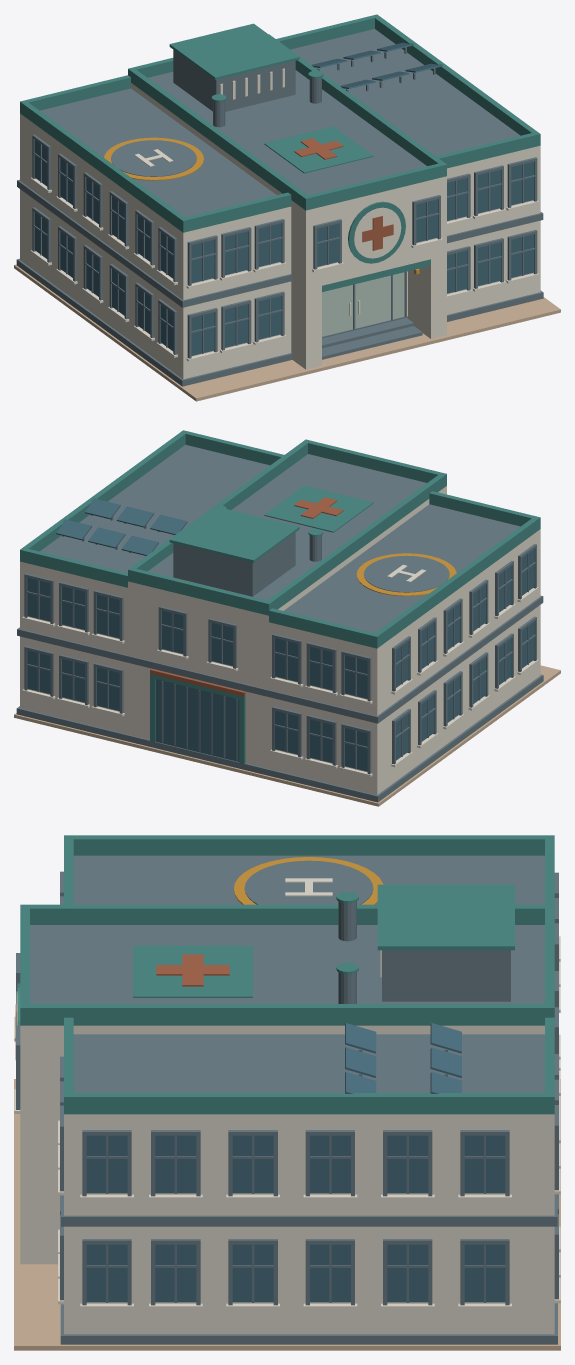
Rendered from hospital-a-v001.glb.
The picture shows the model from 3 angles, top to bottom: view 1: azimuth 30°, elevation 25°; view 2: azimuth 150°, elevation 25°; view 3: azimuth 270°, elevation 25°; orthographic projection. The views are drawn at different scales.
Visible parts, largest first — view 1: hospital_slate, hospital_ceramic, hospital_teal, hospital_glass, hospital_paving, hospital_lobbyglass, hospital_terracotta, hospital_amber; view 2: hospital_slate, hospital_ceramic, hospital_teal, hospital_glass, hospital_paving, hospital_terracotta, hospital_amber; view 3: hospital_slate, hospital_ceramic, hospital_teal, hospital_glass, hospital_paving, hospital_terracotta, hospital_amber.
Part boxes in pixels (left/top/right/bottom): hospital_slate: left=16, top=29, right=543, bottom=386; hospital_ceramic: left=20, top=68, right=540, bottom=379; hospital_teal: left=20, top=14, right=540, bottom=292; hospital_glass: left=34, top=42, right=534, bottom=355; hospital_paving: left=14, top=264, right=560, bottom=401; hospital_lobbyglass: left=322, top=272, right=404, bottom=336; hospital_terracotta: left=294, top=138, right=393, bottom=250; hospital_amber: left=104, top=137, right=419, bottom=274; hospital_slate: left=16, top=444, right=543, bottom=802; hospital_ceramic: left=20, top=486, right=540, bottom=794; hospital_teal: left=20, top=430, right=540, bottom=763; hospital_glass: left=27, top=498, right=534, bottom=771; hospital_paving: left=14, top=665, right=560, bottom=806; hospital_terracotta: left=150, top=497, right=343, bottom=696; hospital_amber: left=356, top=553, right=456, bottom=596; hospital_slate: left=16, top=855, right=558, bottom=1344; hospital_ceramic: left=14, top=878, right=560, bottom=1334; hospital_teal: left=17, top=835, right=554, bottom=1114; hospital_glass: left=86, top=1023, right=505, bottom=1302; hospital_paving: left=14, top=1079, right=560, bottom=1350; hospital_terracotta: left=15, top=954, right=229, bottom=1059; hospital_amber: left=233, top=857, right=383, bottom=904.
Bounding box in the file's own units: 14.72 × 7.75 × 12.73.
